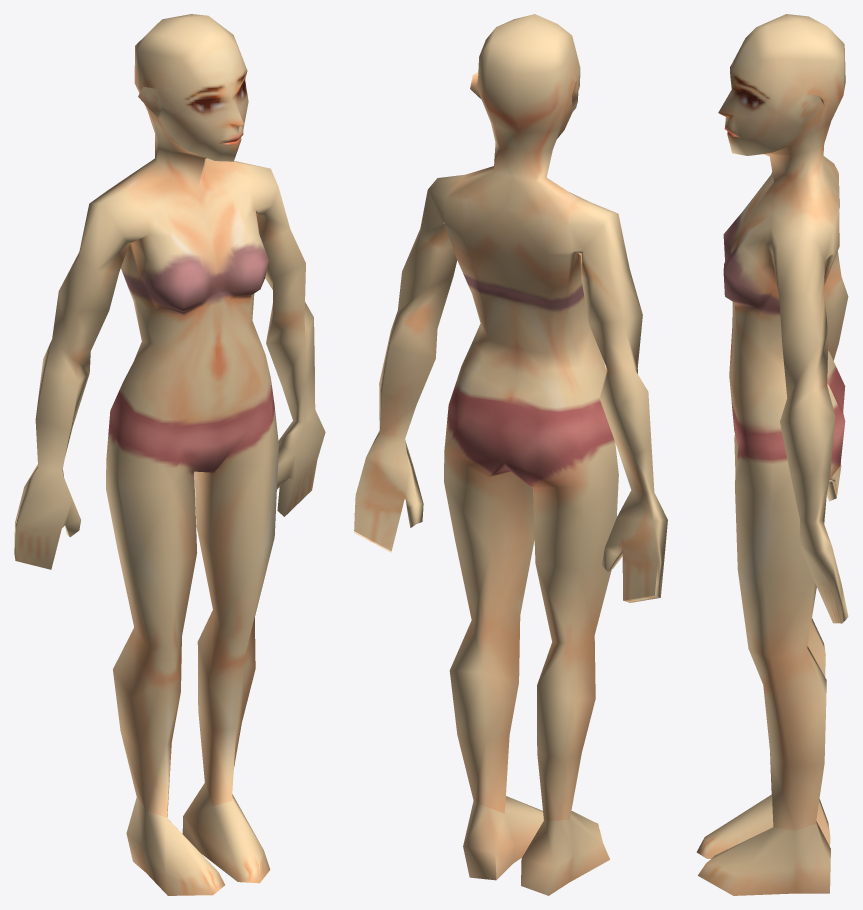
The model's file is StandingBody_Femme_a_1.fbx.
3 renders of one model, left to right at view 1: azimuth 30°, elevation 25°; view 2: azimuth 150°, elevation 25°; view 3: azimuth 270°, elevation 25°, orthographic.
Parts seen in each view (by area): view 1: Body.040; view 2: Body.040; view 3: Body.040.
Boxes of the visible parts, x1,y1,x2,y2 form: Body.040: (14, 14, 325, 895); Body.040: (354, 14, 667, 895); Body.040: (696, 14, 848, 895).
Size of the model in its own units: 0.3665 by 0.9753 by 0.1574.
